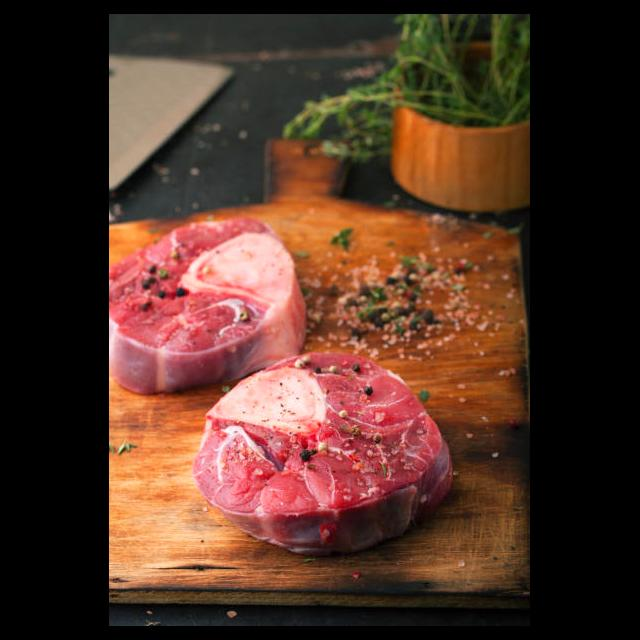beef: (193, 346, 455, 550), (110, 212, 311, 391)
